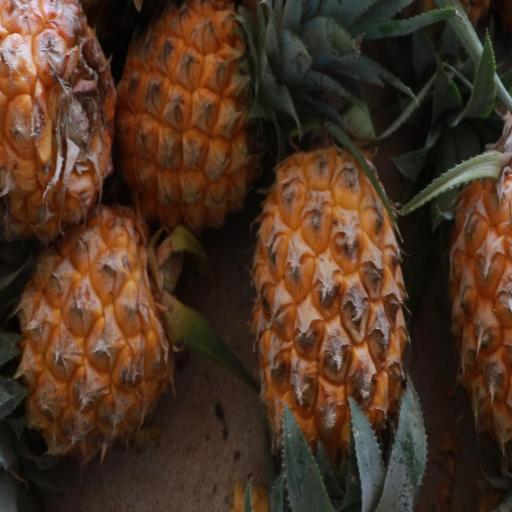Pineapple - v8 v1: (242, 141, 420, 512), (0, 196, 188, 470), (114, 0, 294, 241), (0, 0, 123, 249)
